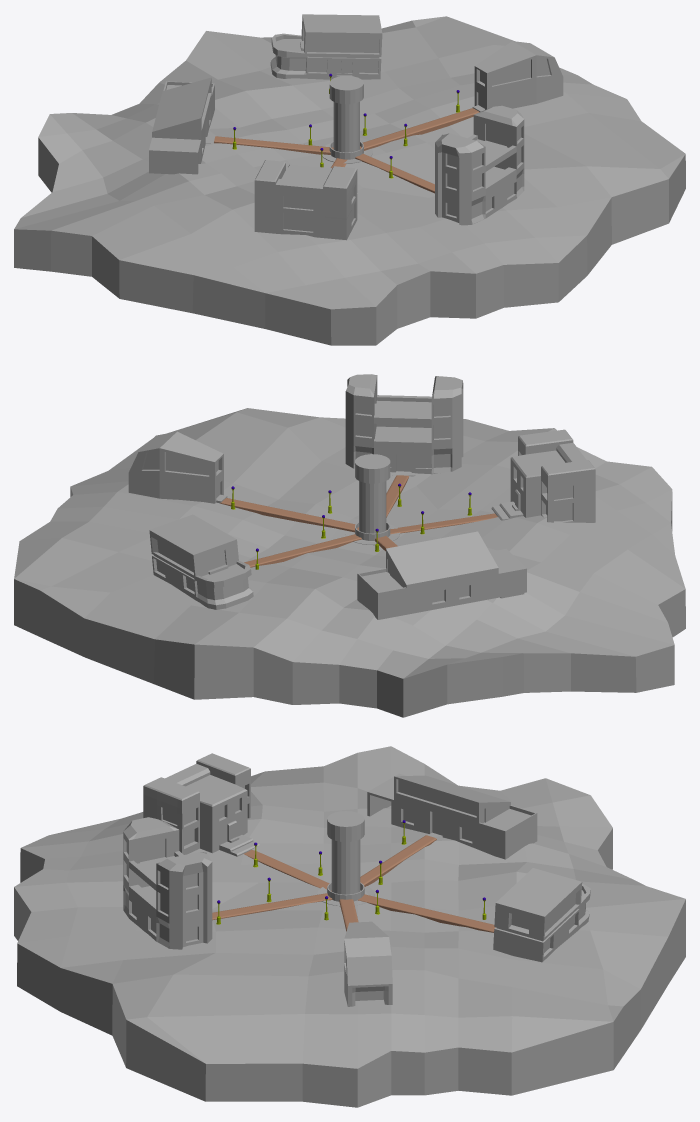
File: village.fbx
3 renders of one model, top to bottom at view 1: azimuth 30°, elevation 25°; view 2: azimuth 150°, elevation 25°; view 3: azimuth 270°, elevation 25°, orthographic. The views are drawn at different scales.
Parts seen in each view (by area): view 1: polySurface10, pCube5, pCube2, pCube3, pCube6, pCube4, polySurface6, pCylinder1; view 2: polySurface10, pCube6, pCube5, pCube2, pCube3, pCube4, polySurface6, pCylinder1, polySurface30; view 3: polySurface10, pCube5, pCube6, pCube2, pCube3, polySurface6, pCube4, pCylinder1, polySurface30.
Boxes of the visible parts, <box> form: polySurface10: <box>14,16,685,345</box>; pCube5: <box>435,105,524,225</box>; pCube2: <box>254,160,357,240</box>; pCube3: <box>270,14,382,79</box>; pCube6: <box>149,77,214,174</box>; pCube4: <box>472,41,563,111</box>; polySurface6: <box>214,108,479,193</box>; pCylinder1: <box>320,76,372,163</box>; polySurface10: <box>14,408,685,717</box>; pCube6: <box>357,531,526,619</box>; pCube5: <box>345,374,463,476</box>; pCube2: <box>491,429,595,522</box>; pCube3: <box>149,514,253,609</box>; pCube4: <box>128,431,227,503</box>; polySurface6: <box>220,475,497,567</box>; pCylinder1: <box>345,454,399,545</box>; polySurface30: <box>231,483,472,569</box>; polySurface10: <box>14,746,685,1107</box>; pCube5: <box>123,817,212,949</box>; pCube6: <box>367,773,537,859</box>; pCube2: <box>143,753,259,856</box>; pCube3: <box>493,868,590,962</box>; polySurface6: <box>212,835,495,932</box>; pCube4: <box>344,921,392,1006</box>; pCylinder1: <box>317,811,374,906</box>; polySurface30: <box>216,820,486,924</box>.
Size of the model in its own units: 397 by 82.18 by 355.
